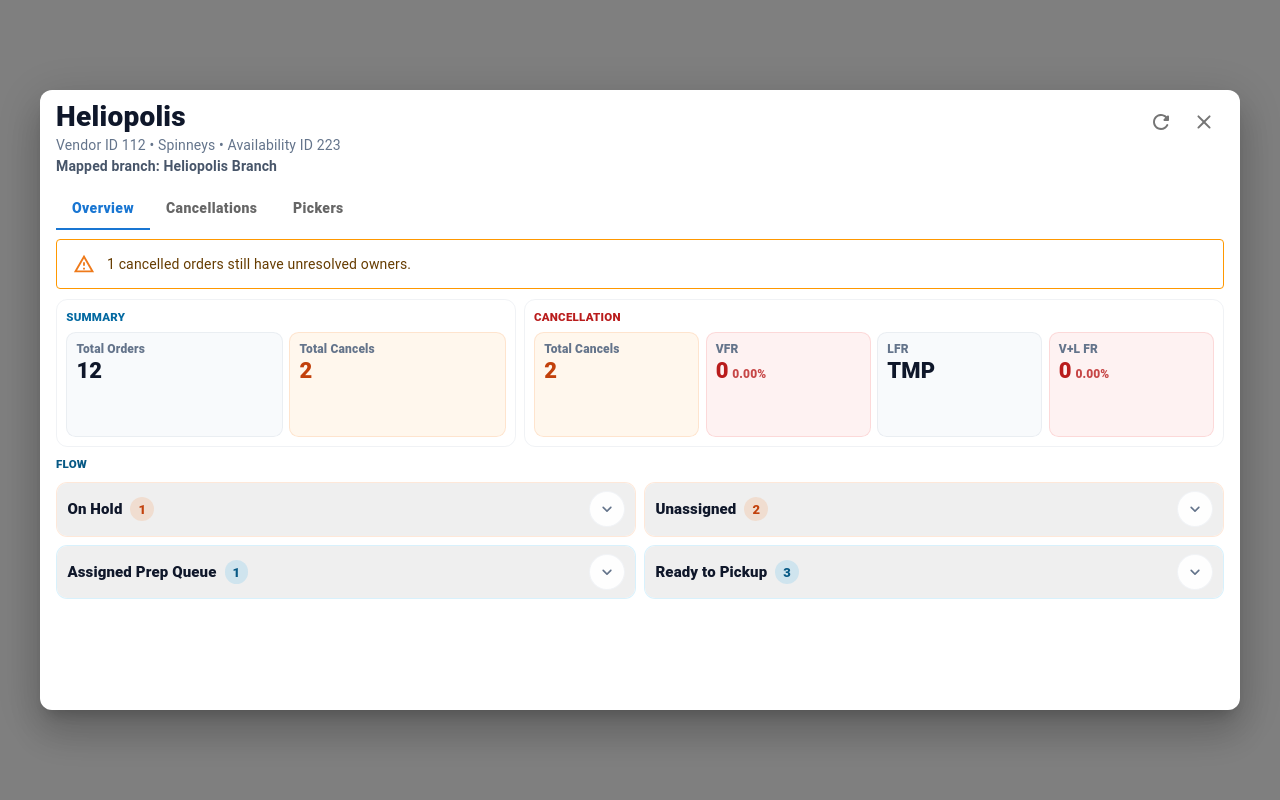
Scenario: PerformanceBranchDialog › renders overview flow sections beside each other and grouped cancellations
The image size is (1280, 800).
Expected: the tab "Overview" is shown, left=56, top=188, right=150, bottom=230
Expected: the text "Summary" is shown, left=66, top=309, right=125, bottom=326
Click the button with aria-label "Toggle Ready to Pickup orders" at (711, 572), box left=645, top=546, right=1223, bottom=598
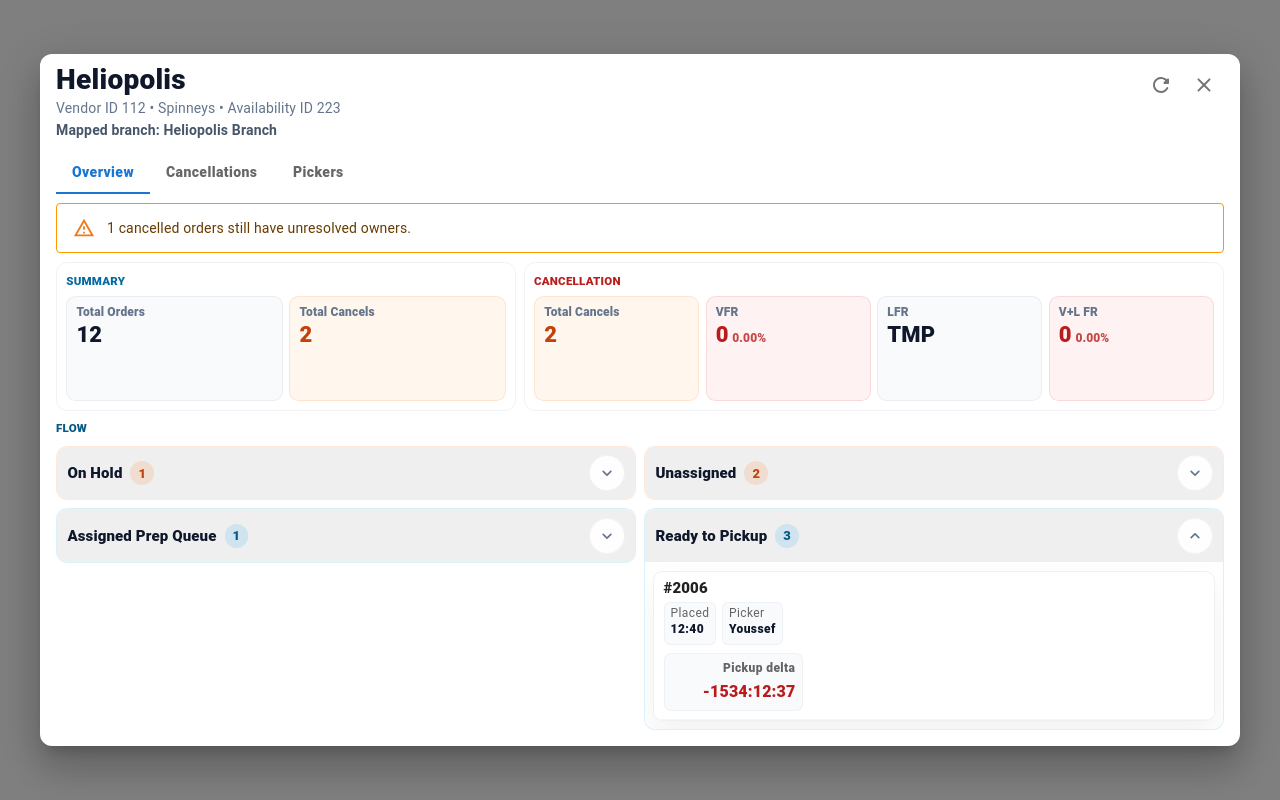
Result: the text "#2006" is shown at left=664, top=580, right=708, bottom=596
Result: the text "Pickup delta" is shown at left=723, top=661, right=795, bottom=675
Click the button with aria-label "Toggle Assigned Prep Queue orders" at (142, 536), box left=57, top=509, right=635, bottom=562
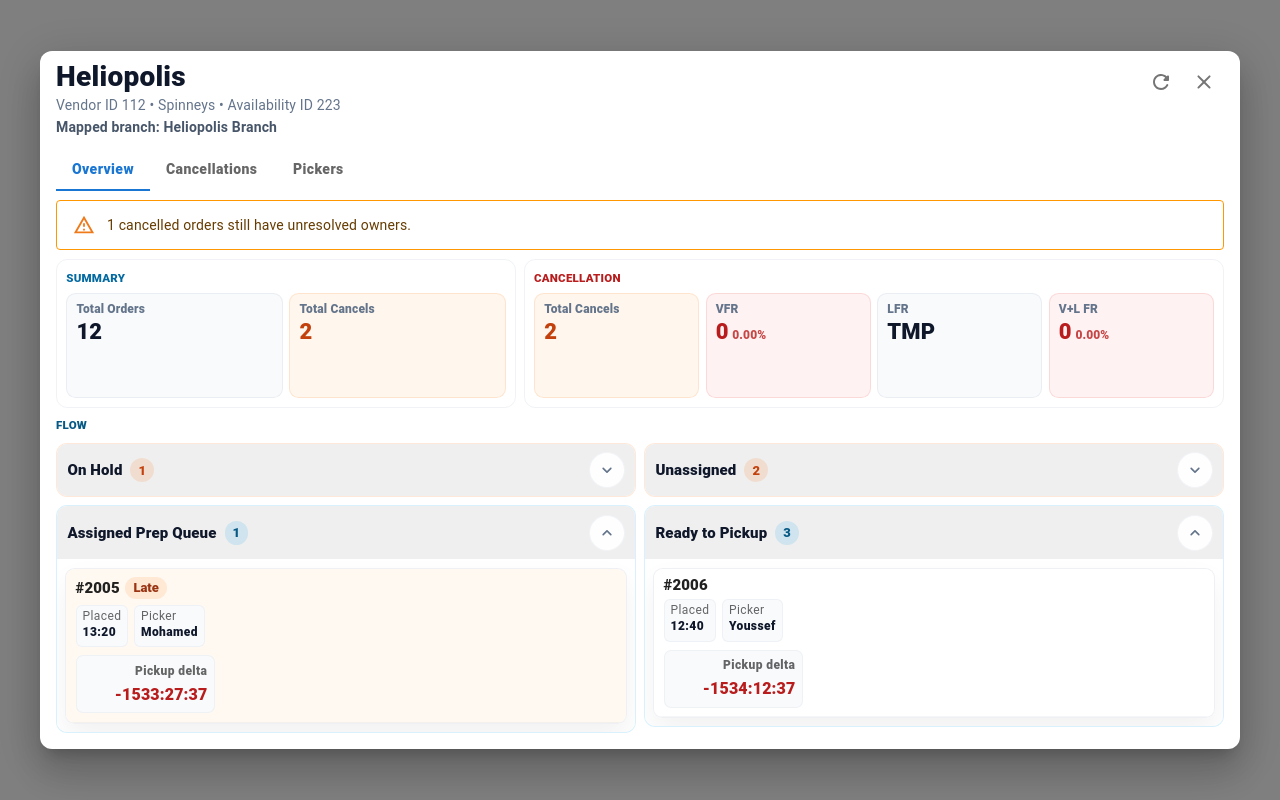
Result: the text "#2006" is shown at left=664, top=577, right=708, bottom=594
Result: the text "#2005" is shown at left=76, top=580, right=120, bottom=596
Result: the text "Pickup delta" below "13:20" is shown at left=135, top=664, right=207, bottom=678
Click the tab "Cancellations" at (212, 170), box left=150, top=149, right=273, bottom=191
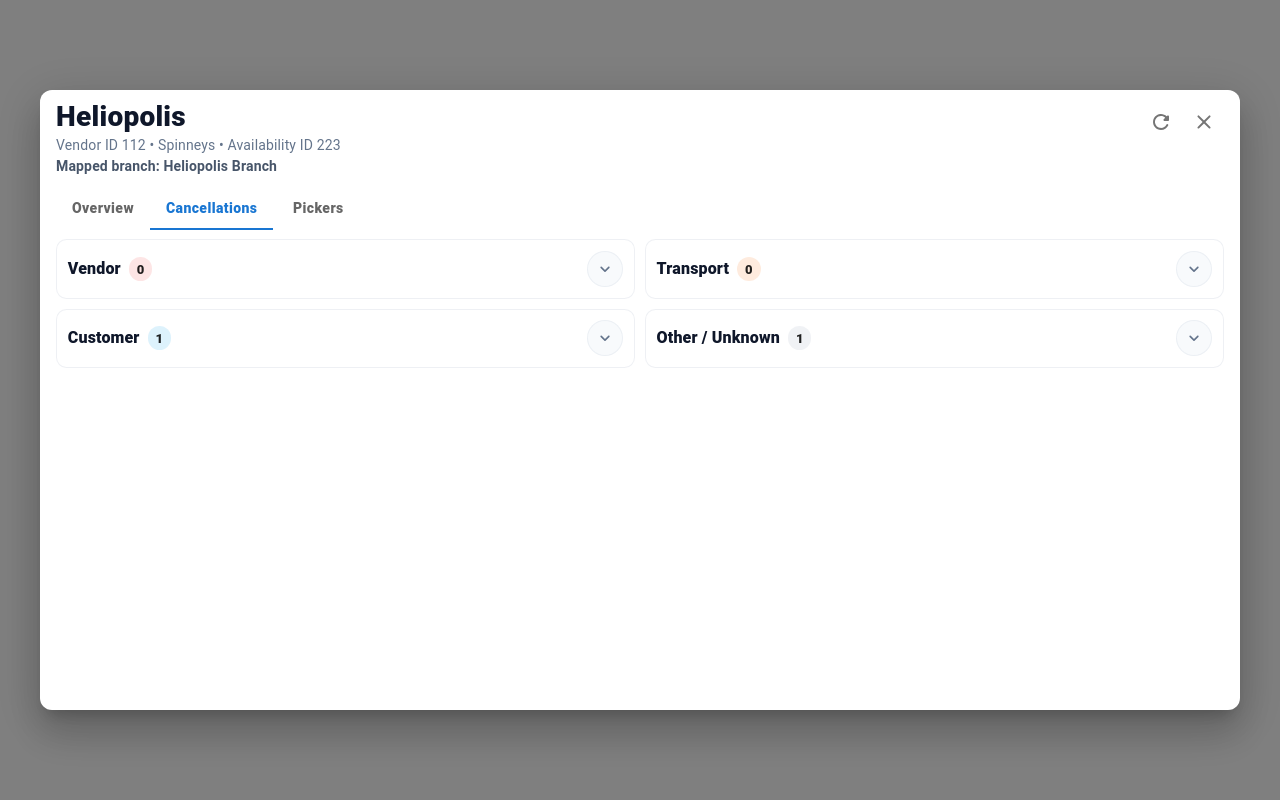
Expected: the text "Reason: FRAUD_PRANK" is not shown
Result: the text "Customer" is shown at left=68, top=326, right=140, bottom=350
Result: the text "Other / Unknown" is shown at left=657, top=326, right=780, bottom=350
Click the button with aria-label "Toggle Customer cancellations" at (104, 338), box left=68, top=320, right=623, bottom=356
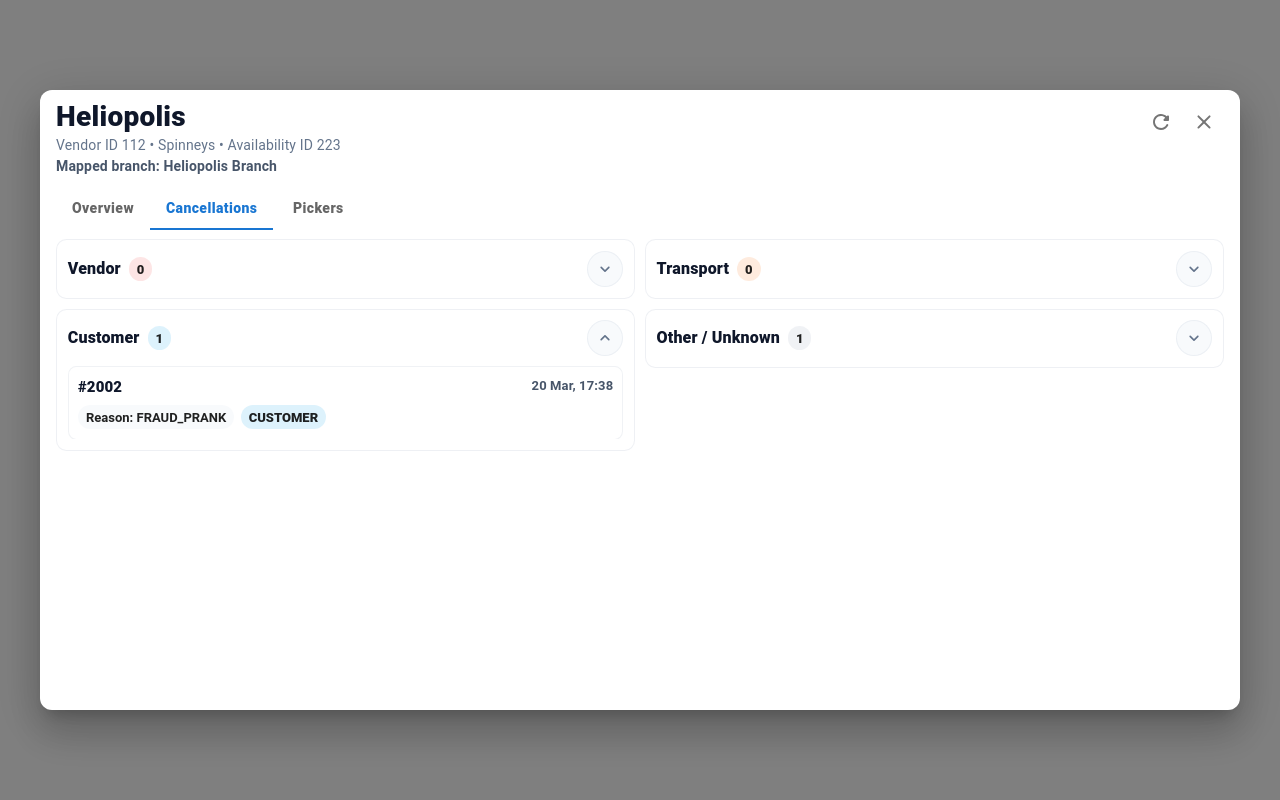
Click the button with aria-label "Toggle Other / Unknown cancellations" at (718, 338), box left=657, top=320, right=1212, bottom=356
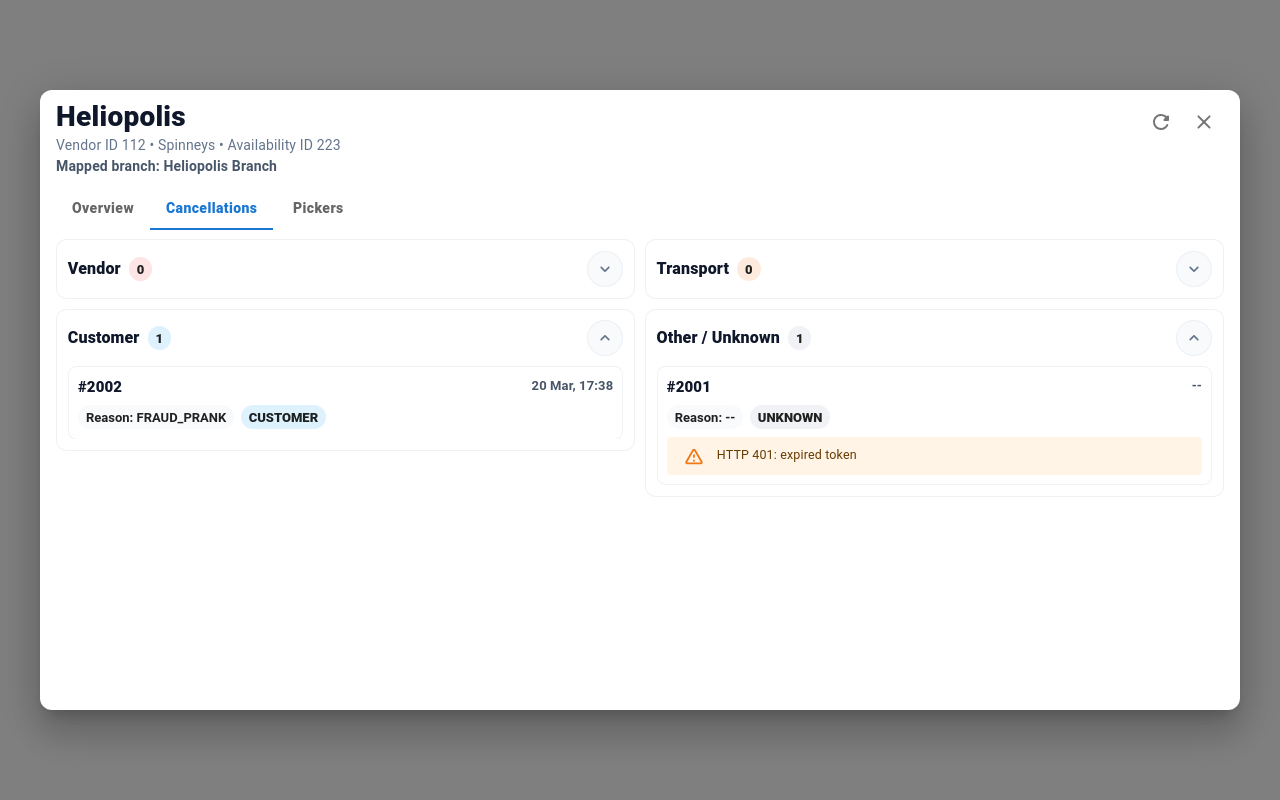
Expected: the text "Mohamed" is not shown
Result: the text "Reason: FRAUD_PRANK" is shown at left=78, top=410, right=234, bottom=425
Result: the text "HTTP 401: expired token" is shown at left=717, top=447, right=857, bottom=462
Click the tab "Pickers" at (318, 209), box left=273, top=188, right=363, bottom=230
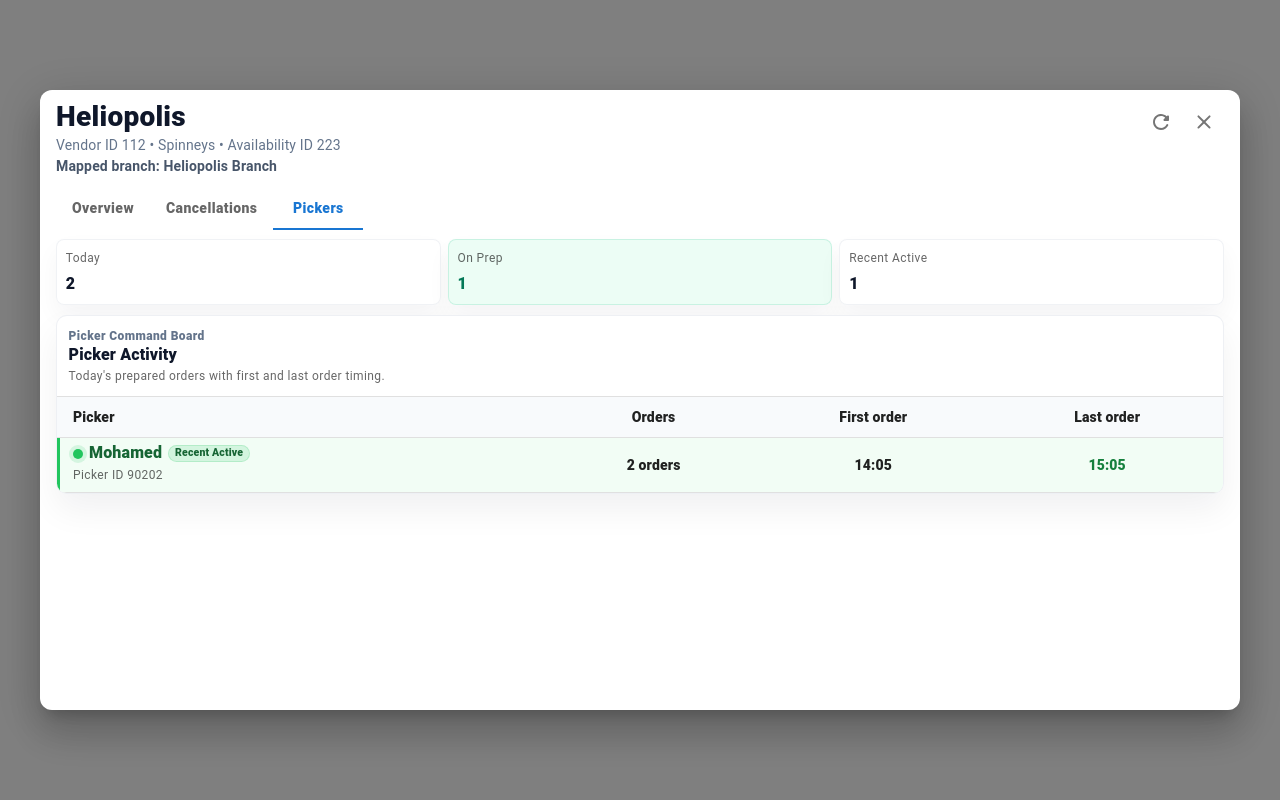
Result: the text "Picker Activity" is shown at left=69, top=345, right=177, bottom=364
Result: the text "Mohamed" is shown at left=89, top=444, right=162, bottom=463
Result: the text "2 orders" is shown at left=552, top=438, right=755, bottom=493
